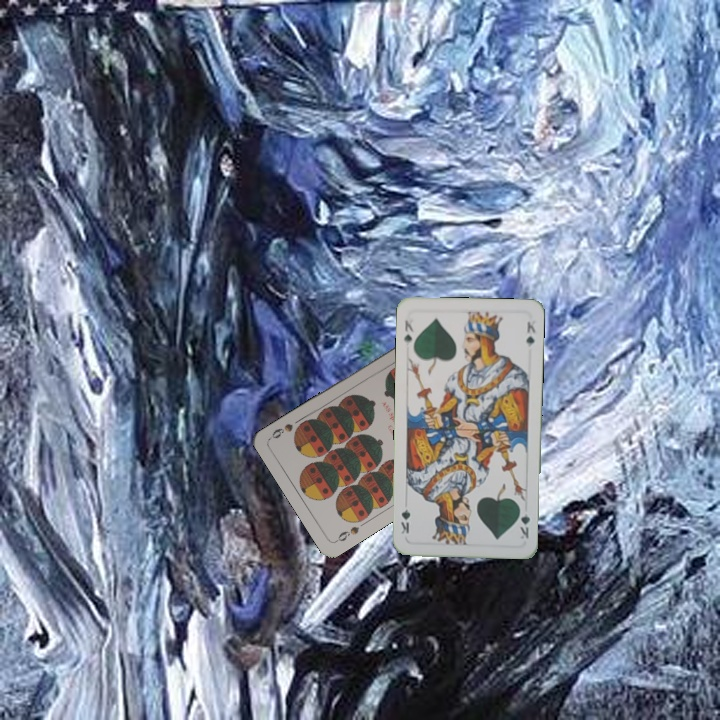GK: (516, 502, 533, 541), (400, 316, 416, 345)
S9: (332, 522, 361, 545)
